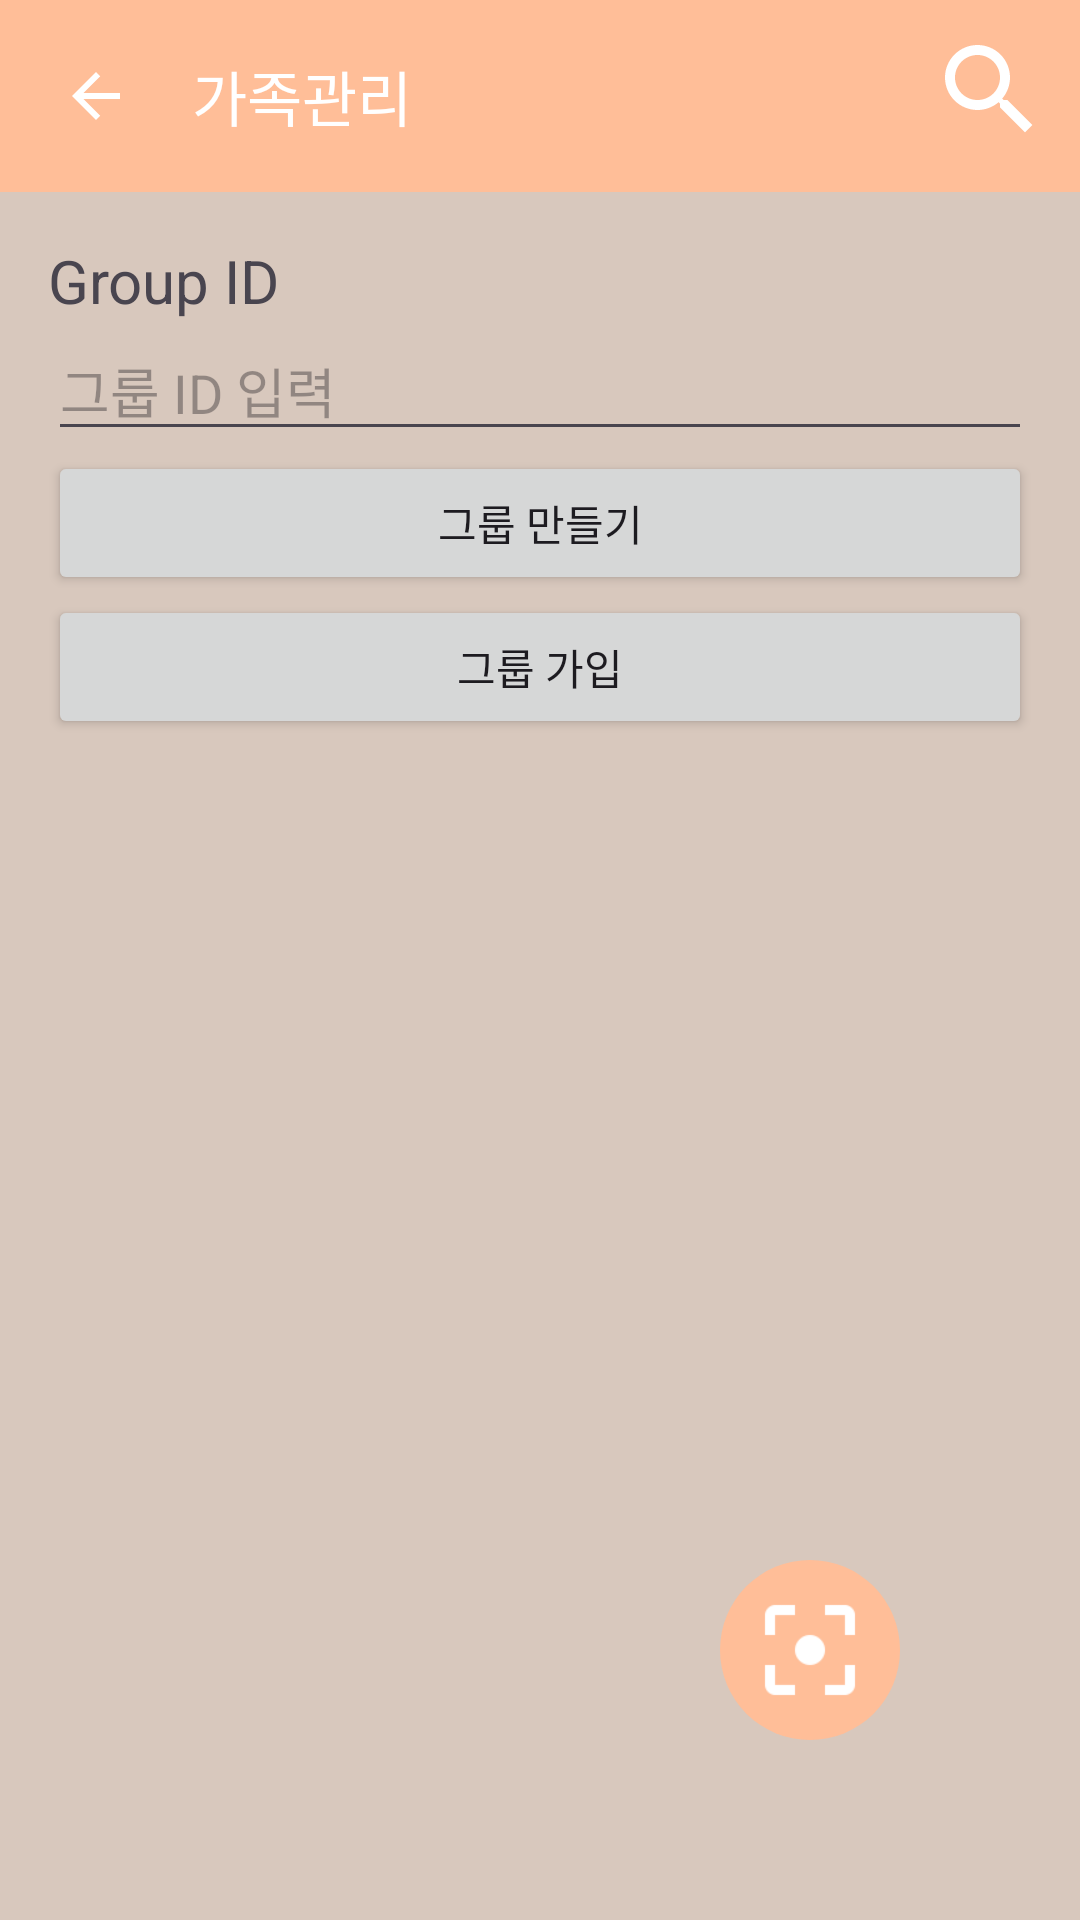

Screen size 1080w x 1920h. Icon name, then its box in pixels as (x1, y1, x2, y2):
arrow back: (72, 72, 120, 120)
filter center focus: (720, 1560, 900, 1740)
search: (945, 45, 1032, 132)
